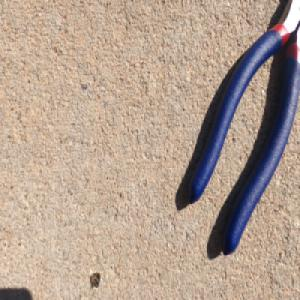Pliers: (187, 0, 300, 257)
